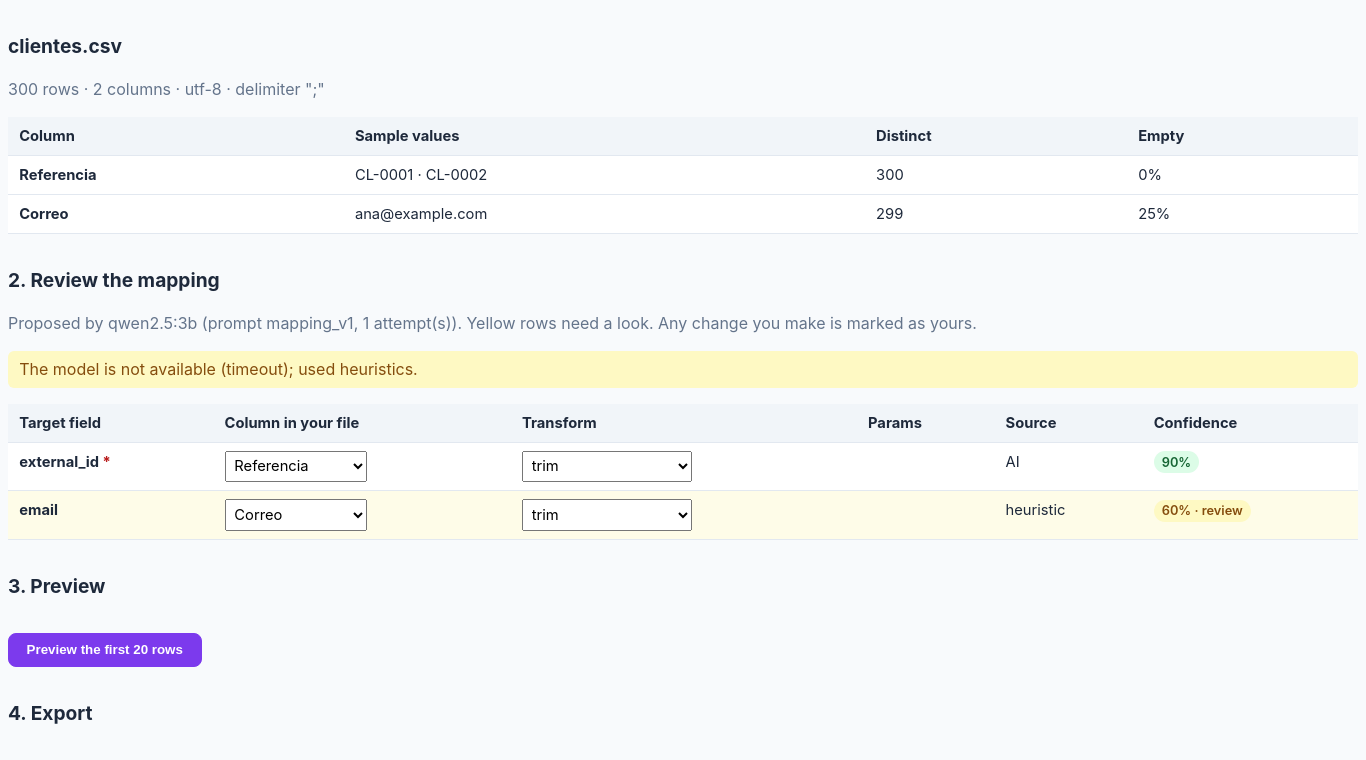
Test case: Workspace › previews with the mapping as edited by the user
The width and height of the screenshot is (1366, 760).
Select "— no column —" in the dropdown named "email column". click: (296, 515)
box: [224, 499, 367, 531]
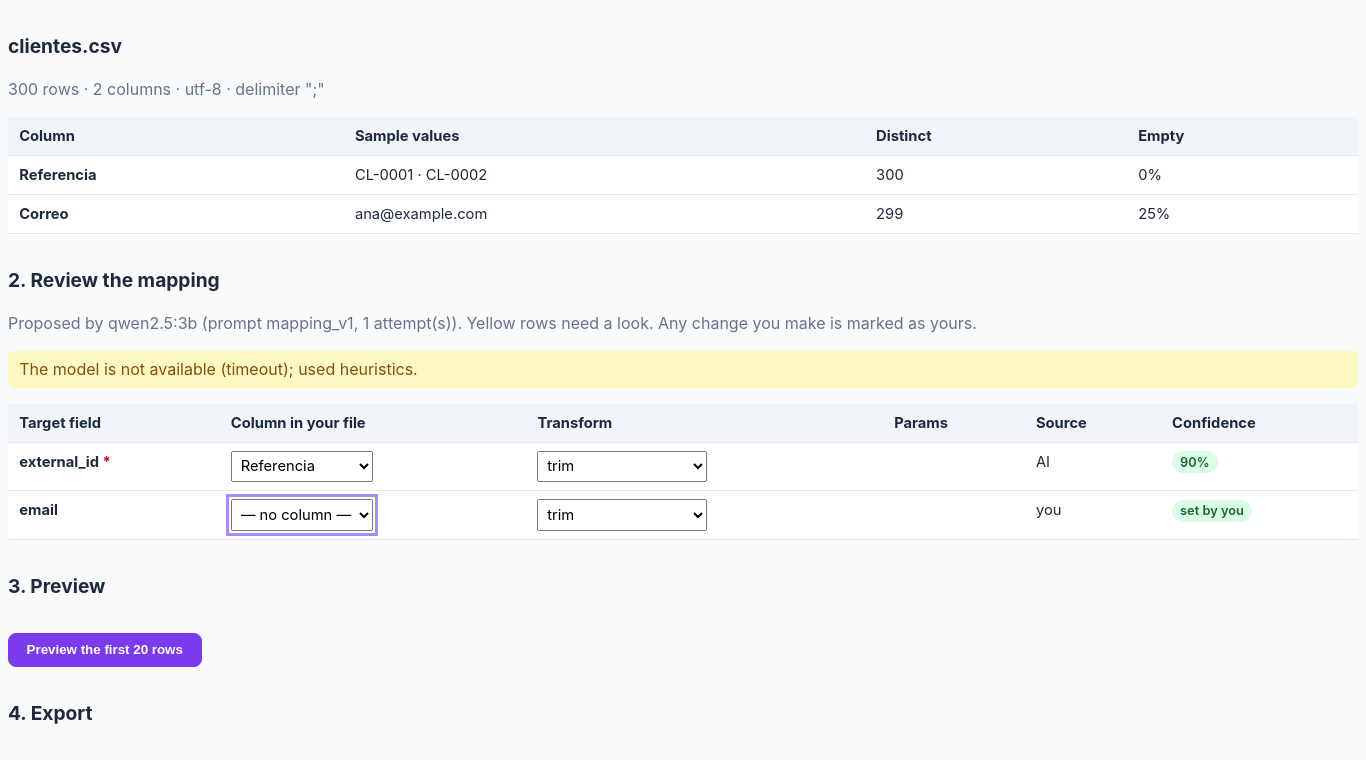
Click the button "Preview the first 20 rows". click: (105, 650)
box: [8, 633, 202, 667]
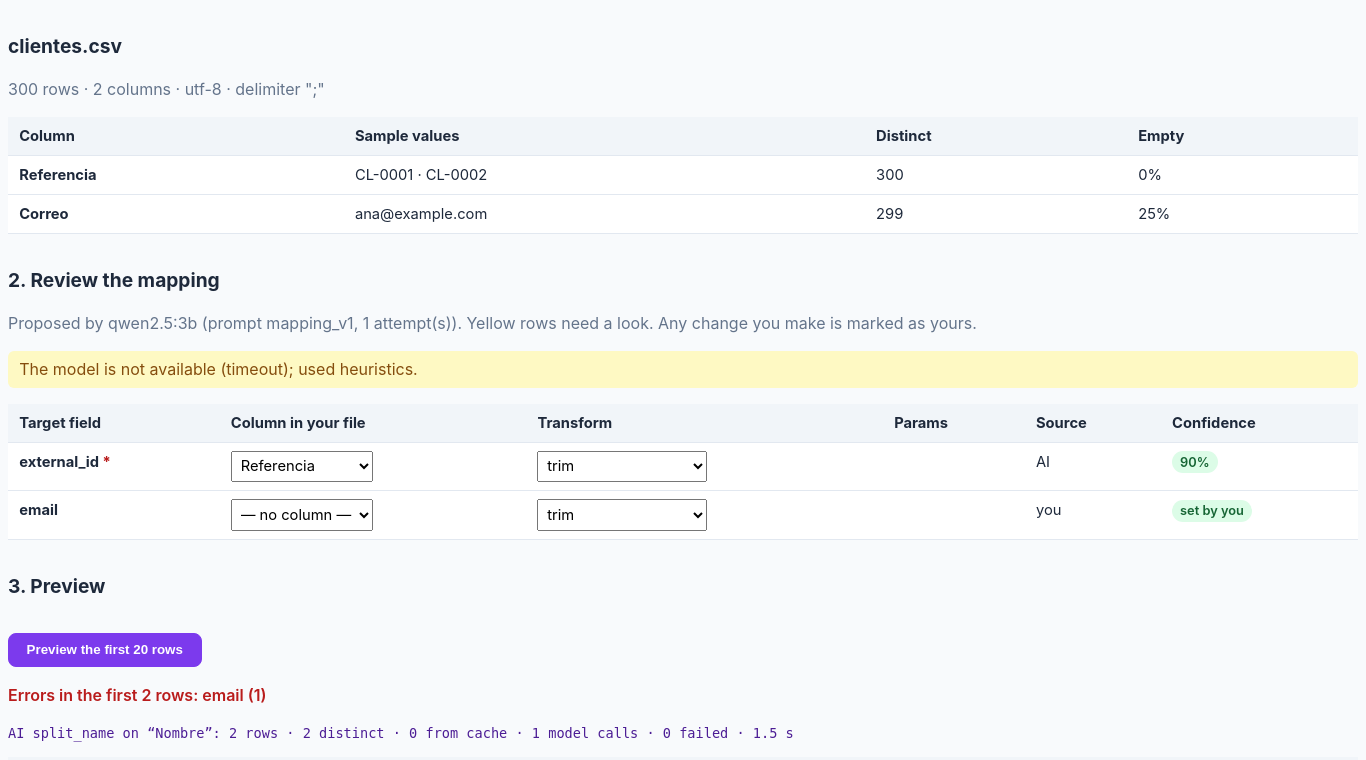
Expected: the text "Errors in the first 2 rows: email (1)" is shown, [8, 685, 266, 705]
